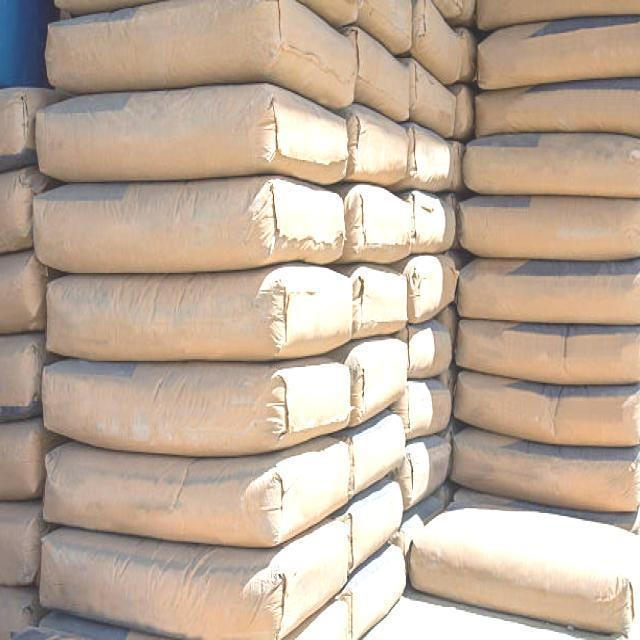gunny_bag: (32, 502, 359, 638), (44, 0, 356, 125), (37, 426, 351, 550), (39, 345, 358, 457), (35, 171, 352, 279), (35, 82, 348, 188), (404, 505, 640, 630), (32, 268, 354, 358), (448, 426, 640, 509), (453, 368, 640, 446), (452, 316, 640, 388), (479, 11, 640, 91), (456, 258, 640, 326), (458, 195, 640, 262), (460, 130, 640, 194), (472, 75, 640, 137), (332, 332, 404, 432), (336, 544, 409, 640), (341, 23, 408, 126), (334, 182, 411, 268), (338, 411, 404, 504), (344, 100, 407, 192), (344, 472, 401, 572), (407, 0, 467, 90), (398, 52, 456, 144), (339, 264, 406, 341), (388, 376, 452, 442), (350, 0, 413, 66), (402, 253, 458, 326), (400, 120, 450, 197), (400, 441, 452, 514), (403, 191, 458, 257), (404, 318, 452, 380)
